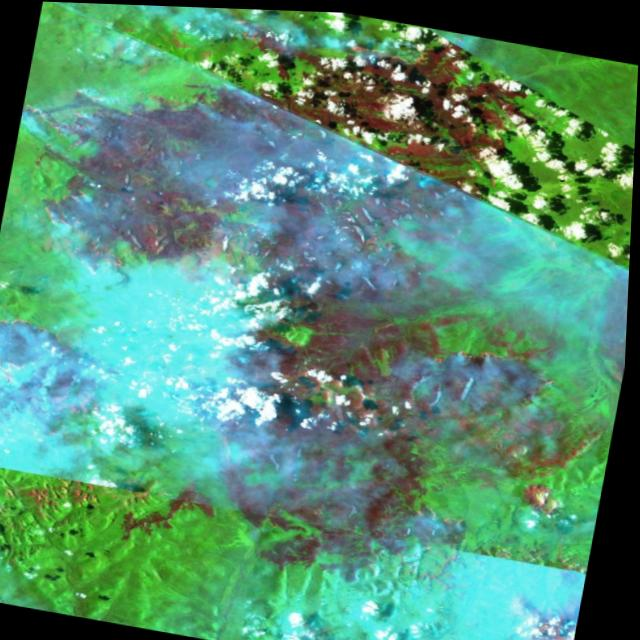fire: (0, 303, 84, 387), (427, 335, 543, 379), (33, 232, 135, 280), (337, 28, 444, 71), (218, 7, 300, 57)
